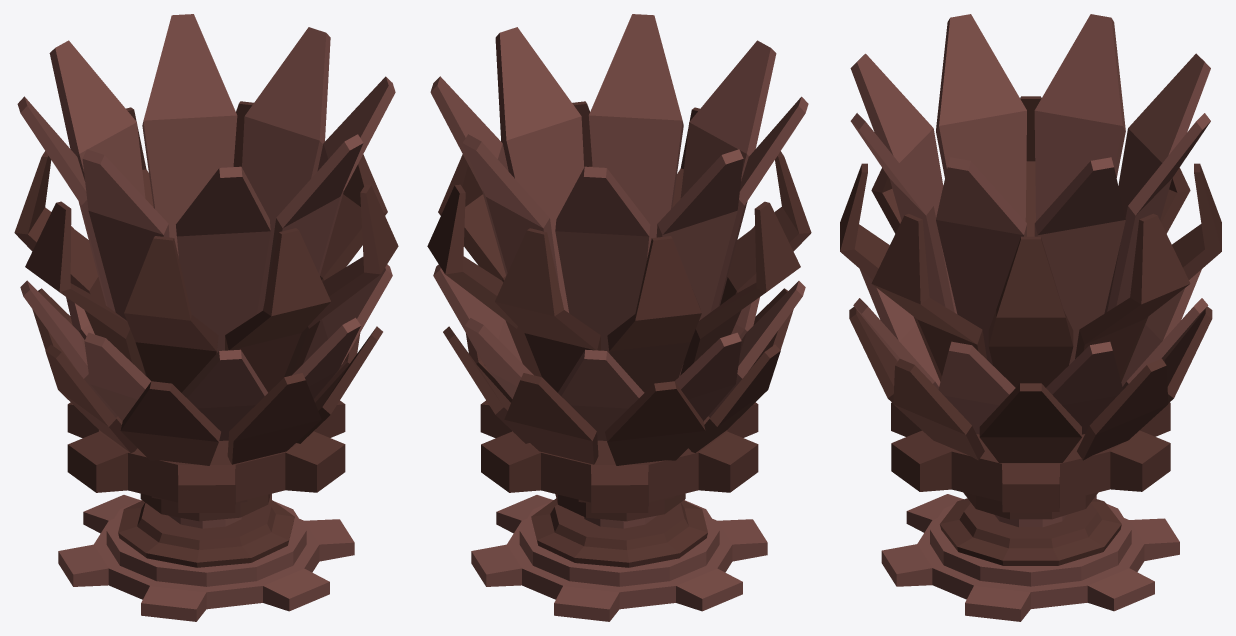
Rendered from Teleporter4.glb.
3 renders of one model, left to right at view 1: azimuth 30°, elevation 25°; view 2: azimuth 150°, elevation 25°; view 3: azimuth 270°, elevation 25°, orthographic.
Visible parts, largest first — view 1: Teleporter4_Top_Cylinder.258, Teleporter4_Cylinder.181; view 2: Teleporter4_Top_Cylinder.258, Teleporter4_Cylinder.181; view 3: Teleporter4_Top_Cylinder.258, Teleporter4_Cylinder.181.
Boxes of the visible parts, left/top/right/bottom form: Teleporter4_Top_Cylinder.258: left=14, top=14, right=398, bottom=512; Teleporter4_Cylinder.181: left=58, top=493, right=354, bottom=621; Teleporter4_Top_Cylinder.258: left=427, top=14, right=811, bottom=512; Teleporter4_Cylinder.181: left=471, top=493, right=767, bottom=621; Teleporter4_Top_Cylinder.258: left=840, top=14, right=1221, bottom=512; Teleporter4_Cylinder.181: left=881, top=492, right=1179, bottom=621.
Size of the model in its own units: 1.76 by 2.41 by 1.76.
